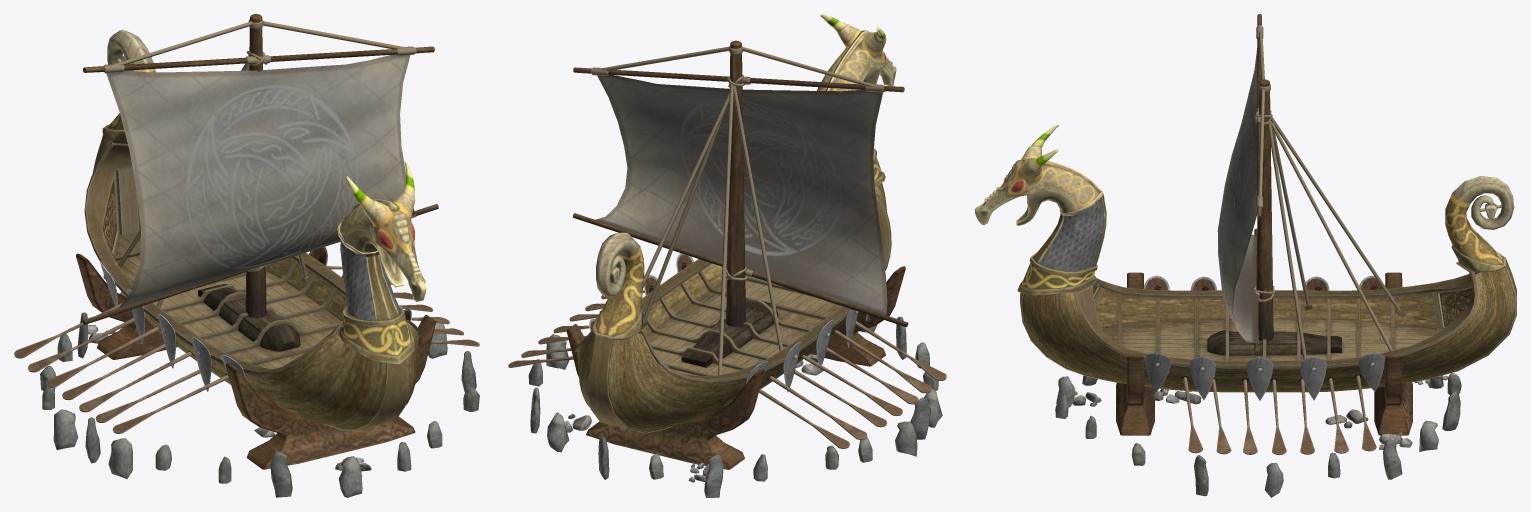
Rendered from 89-wonder-loki.glb.
The picture shows the model from 3 angles, left to right: view 1: azimuth 30°, elevation 25°; view 2: azimuth 150°, elevation 25°; view 3: azimuth 270°, elevation 25°; orthographic projection. The views are drawn at different scales.
Size of the model in its own units: 14.35 by 13.86 by 20.02.
Materials: 4 (4 with a texture image).
